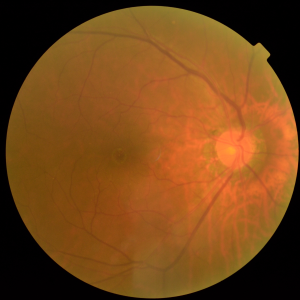healthy_eye: (111, 93, 277, 205)
